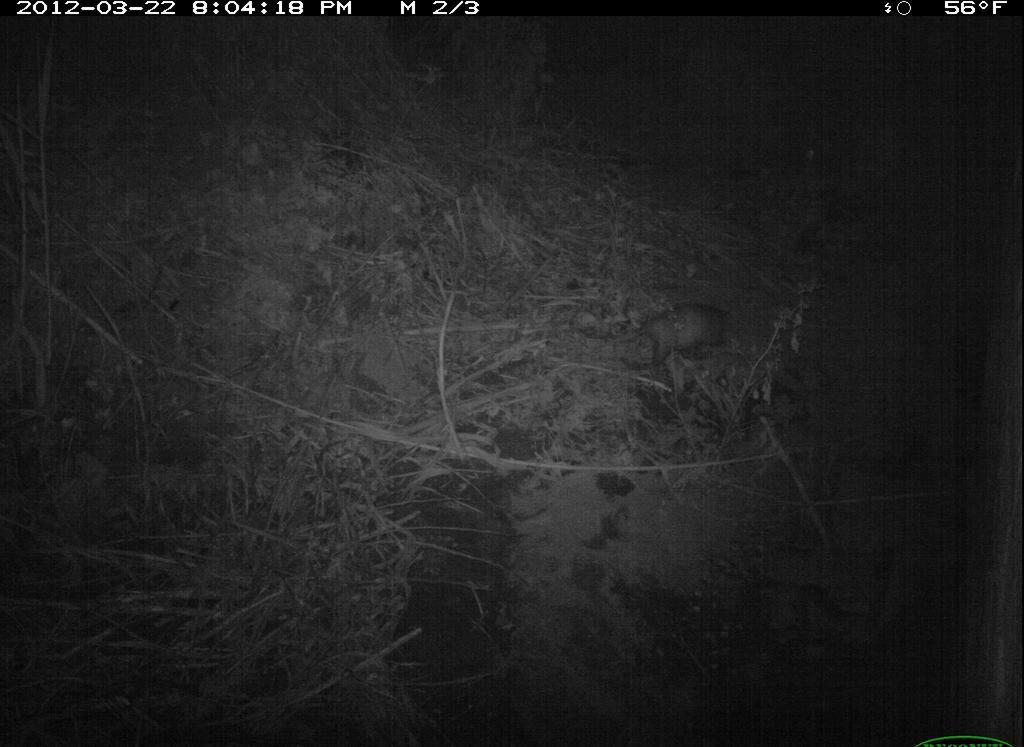opossum: (601, 295, 742, 387)
